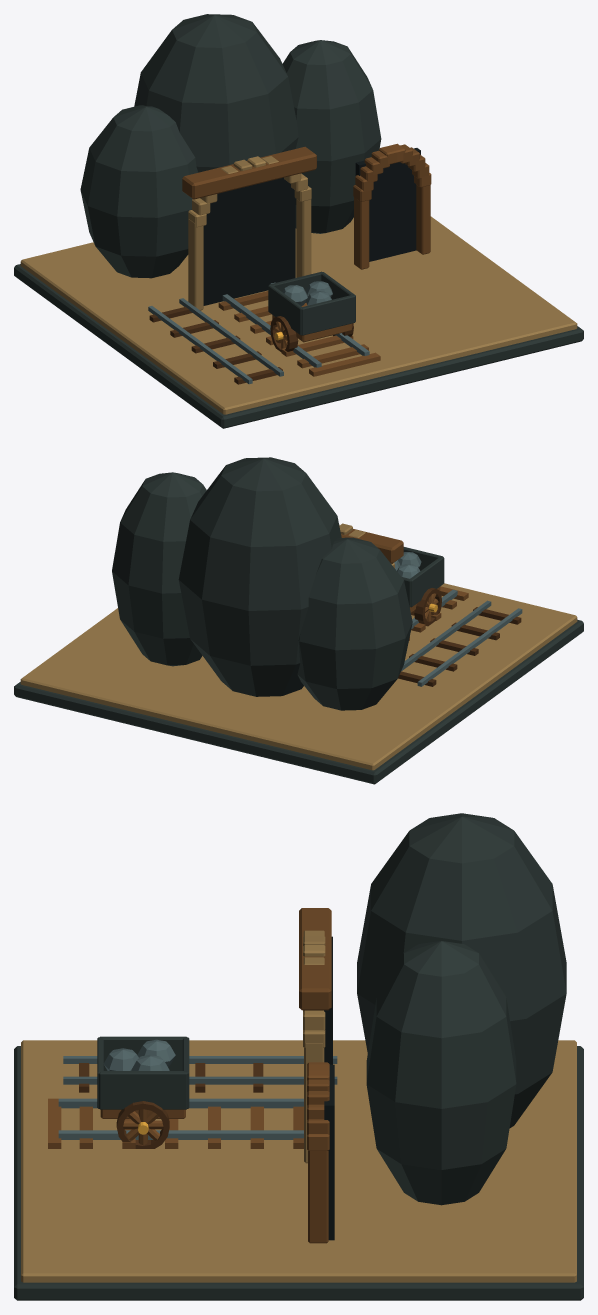
3 views of the same model, one above another, from view 1: azimuth 30°, elevation 25°; view 2: azimuth 150°, elevation 25°; view 3: azimuth 270°, elevation 25° (orthographic). The views are drawn at different scales.
Visible parts, largest first — view 1: mine_4_structure; view 2: mine_4_structure; view 3: mine_4_structure.
Boxes of the visible parts, x1,y1,x2,y2 form: mine_4_structure: (14, 14, 583, 428); mine_4_structure: (14, 457, 583, 784); mine_4_structure: (14, 813, 583, 1300).
Bounding box in the file's own units: 5.6 × 3.78 × 5.6.
